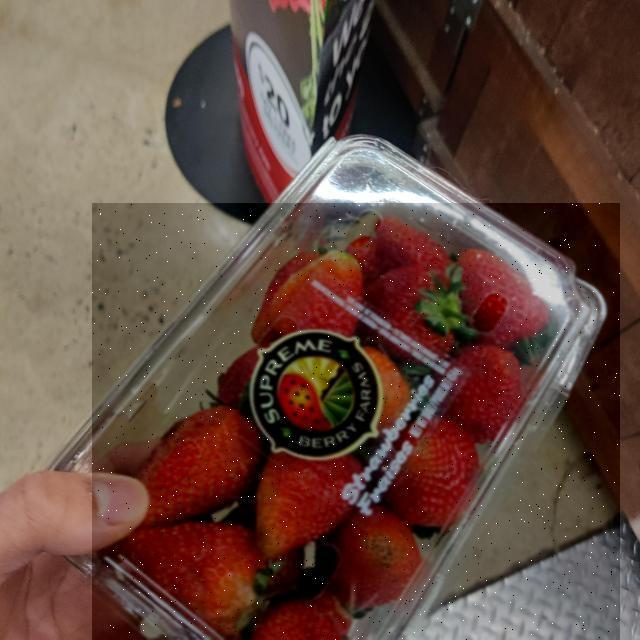Straw Berry: (93, 203, 621, 640)
